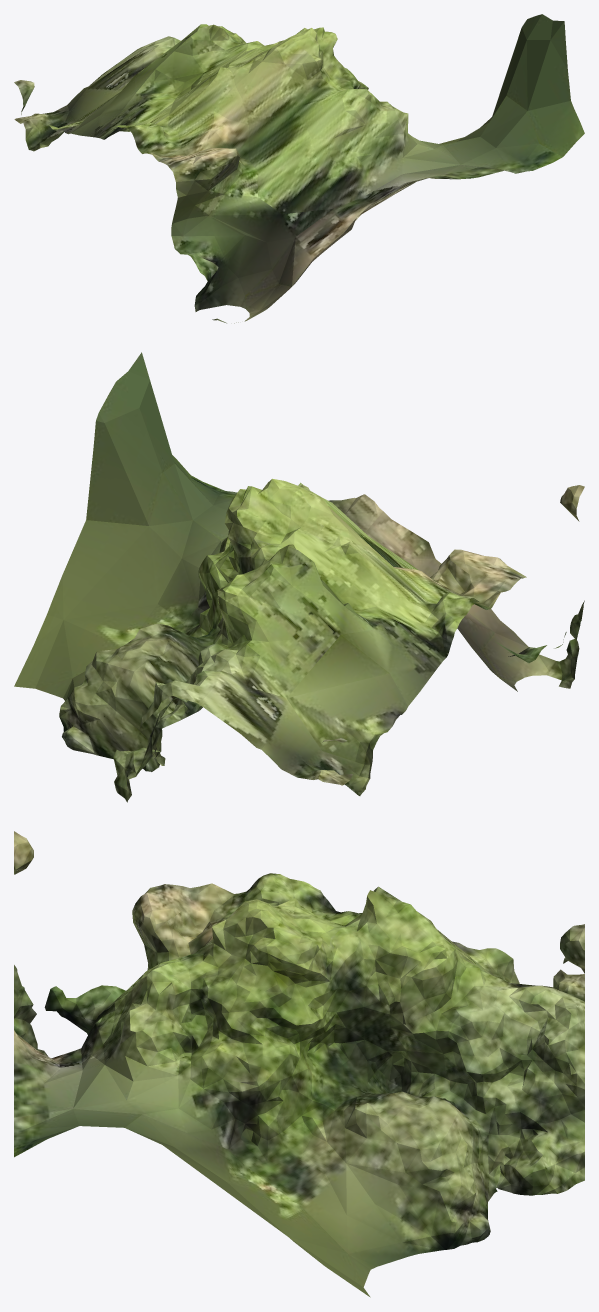
3 views of the same model, one above another, from view 1: azimuth 30°, elevation 25°; view 2: azimuth 150°, elevation 25°; view 3: azimuth 270°, elevation 25° (orthographic). The views are drawn at different scales.
Bounding box in the file's own units: 26.11 × 14.33 × 26.11.
Materials: 3 (3 with a texture image).
